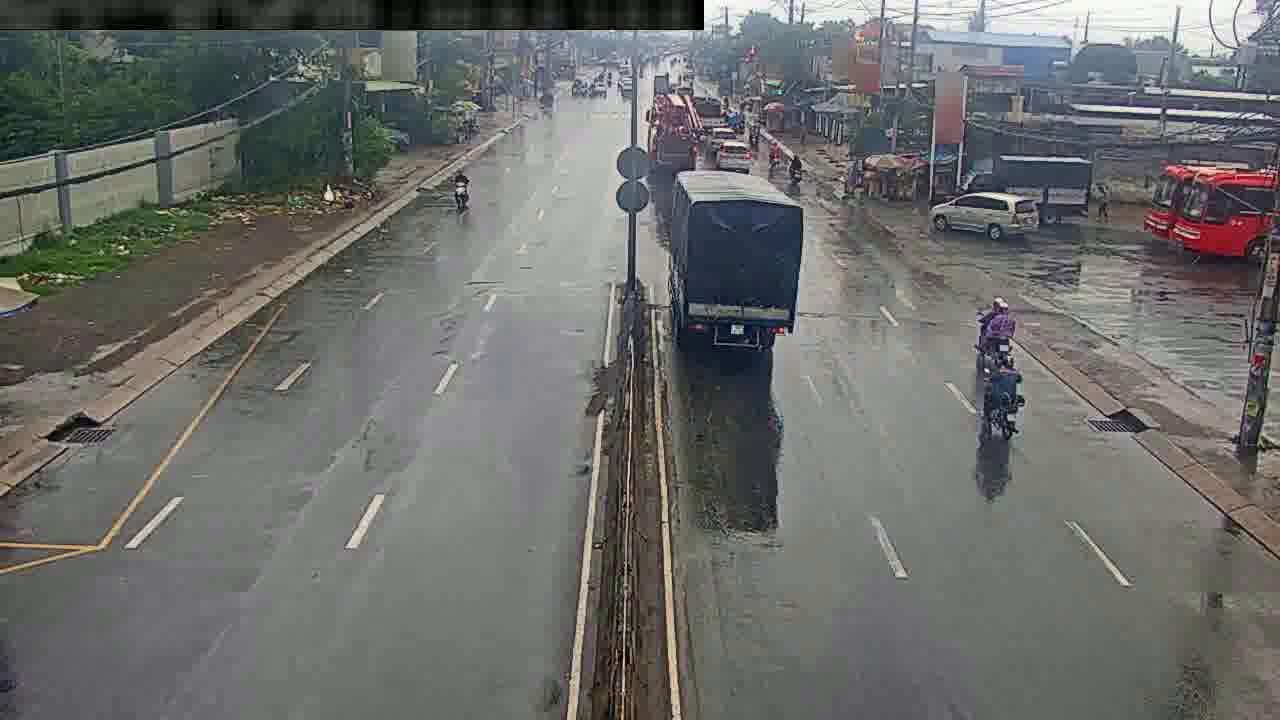8: (670, 169, 808, 354)
motorbike: (981, 353, 1026, 448), (975, 296, 1017, 367), (451, 164, 473, 216), (786, 148, 801, 186)
